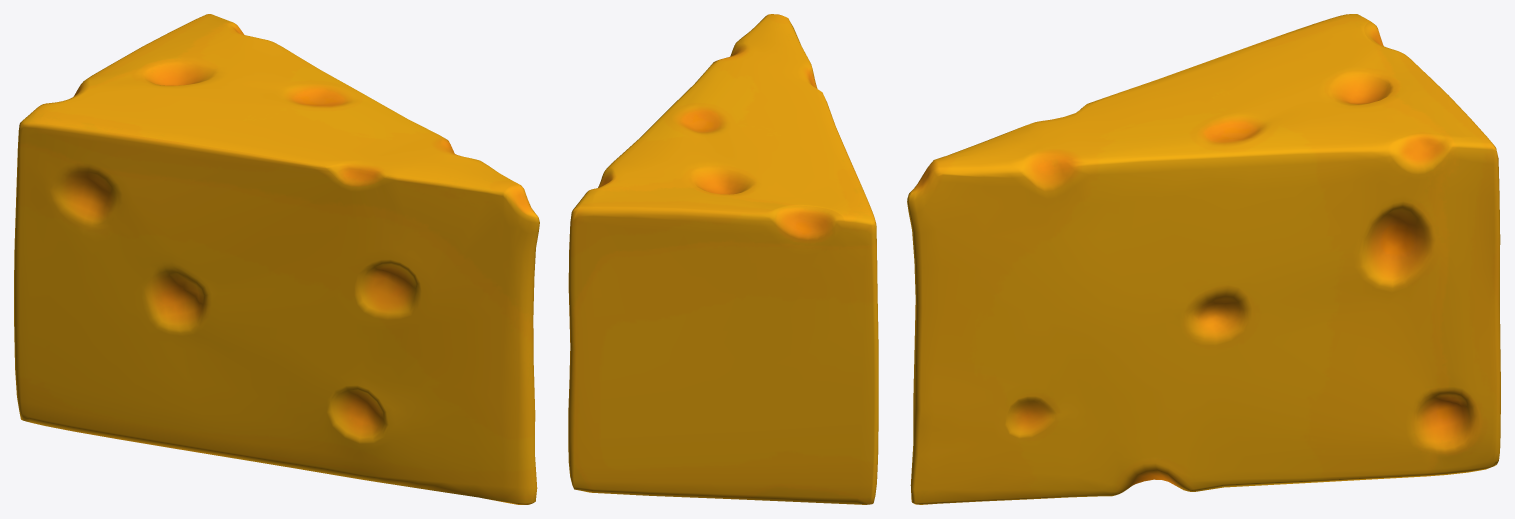
The model's file is food_cheese.fbx.
3 renders of one model, left to right at view 1: azimuth 30°, elevation 25°; view 2: azimuth 150°, elevation 25°; view 3: azimuth 270°, elevation 25°, orthographic. The views are drawn at different scales.
Parts seen in each view (by area): view 1: node_id91; view 2: node_id91; view 3: node_id91.
Part boxes in pixels (x1,y1,x2,y2): node_id91: [14, 14, 539, 504]; node_id91: [568, 14, 878, 504]; node_id91: [907, 14, 1500, 504].
Bounding box in the file's own units: 2.41 × 2.3 × 3.62.
1 material, 1 textured.
